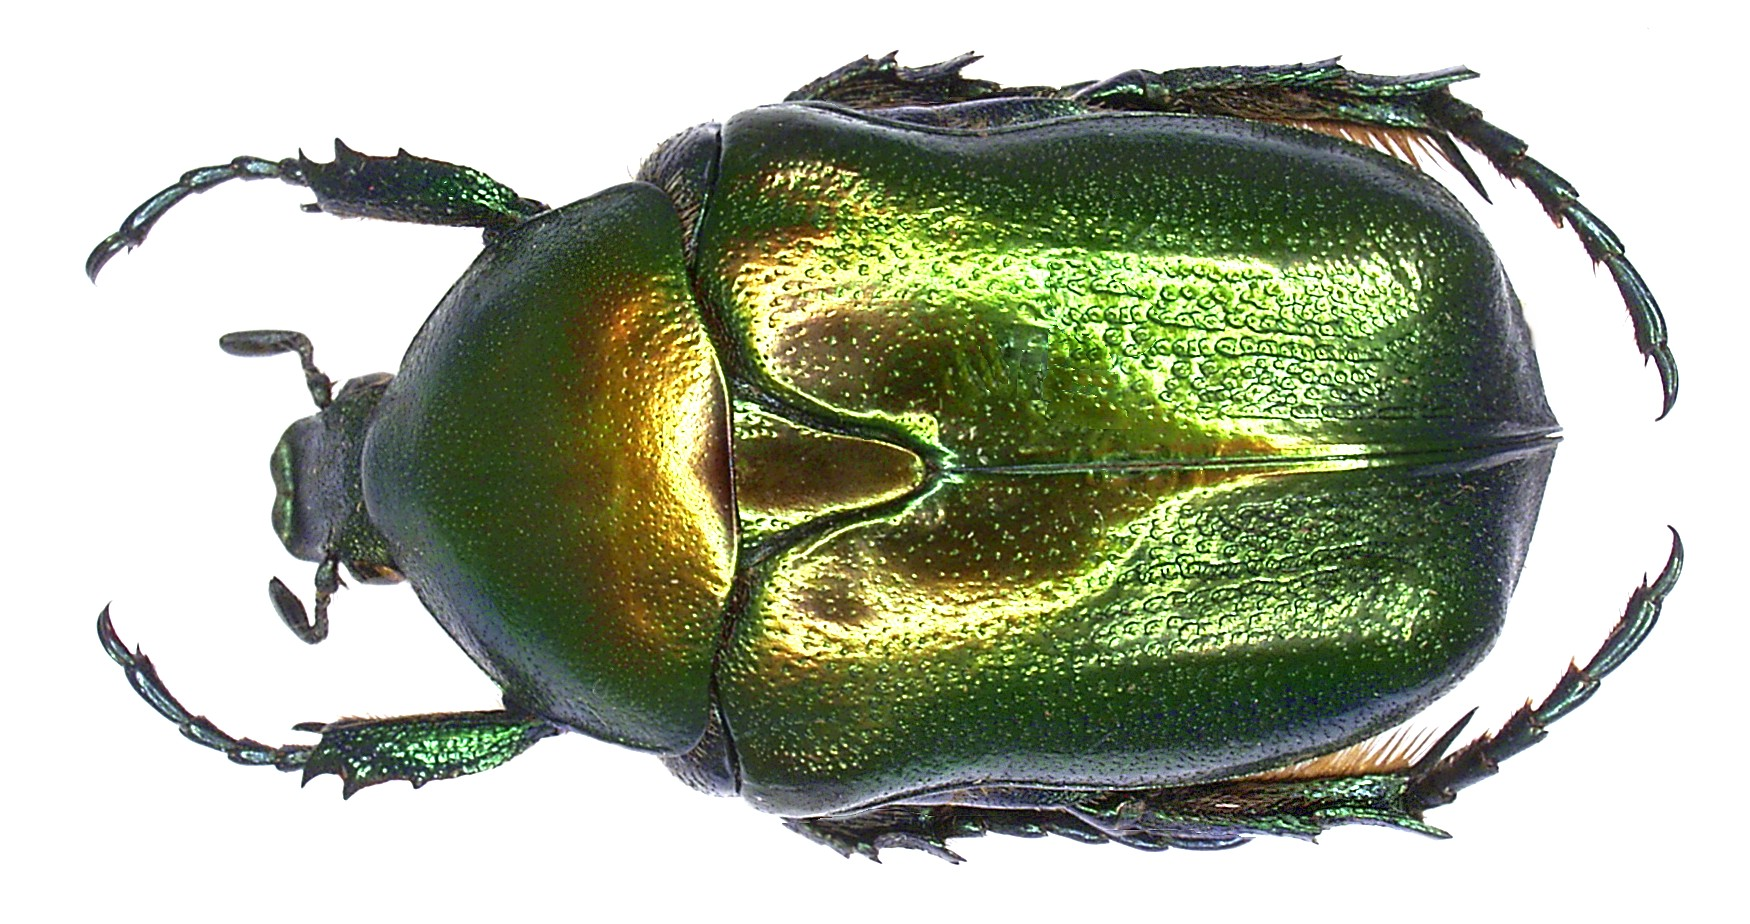Protaetia_angustata_angustata: (58, 36, 1698, 883)
